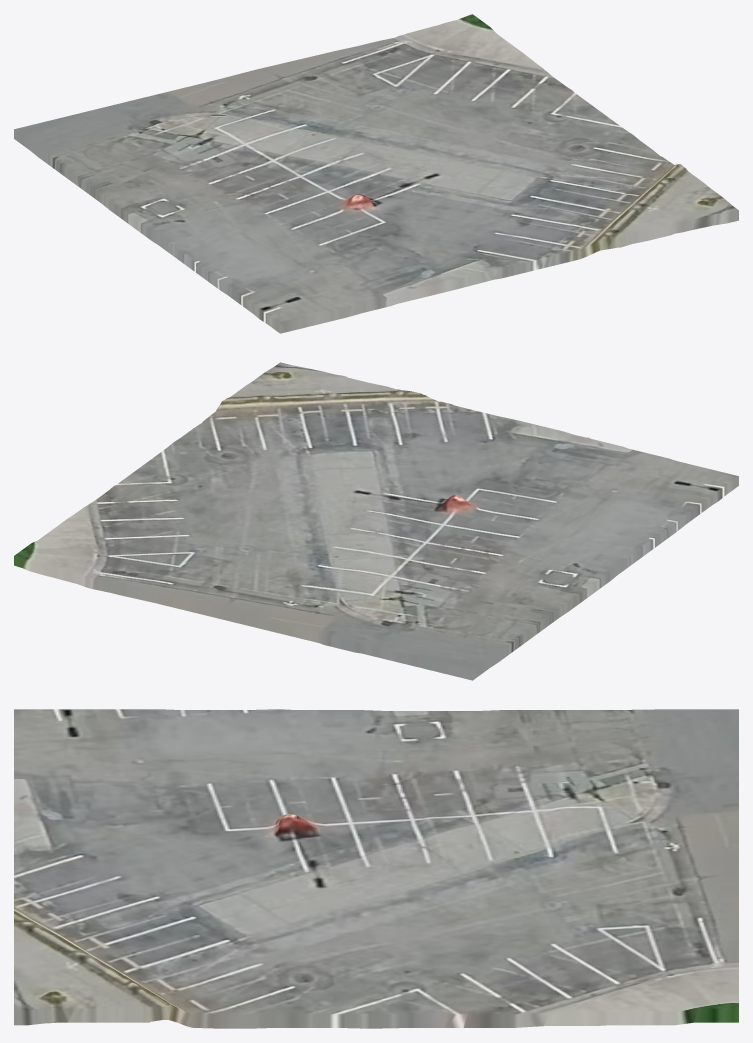
Rendered from z20-167771-405198-h0-yup-uvflip-v3-world.glb.
3 views of the same model, one above another, from view 1: azimuth 30°, elevation 25°; view 2: azimuth 150°, elevation 25°; view 3: azimuth 270°, elevation 25° (orthographic). The views are drawn at different scales.
Bounding box in the file's own units: 30.16 × 1.32 × 30.32.
1 material, 1 textured.
